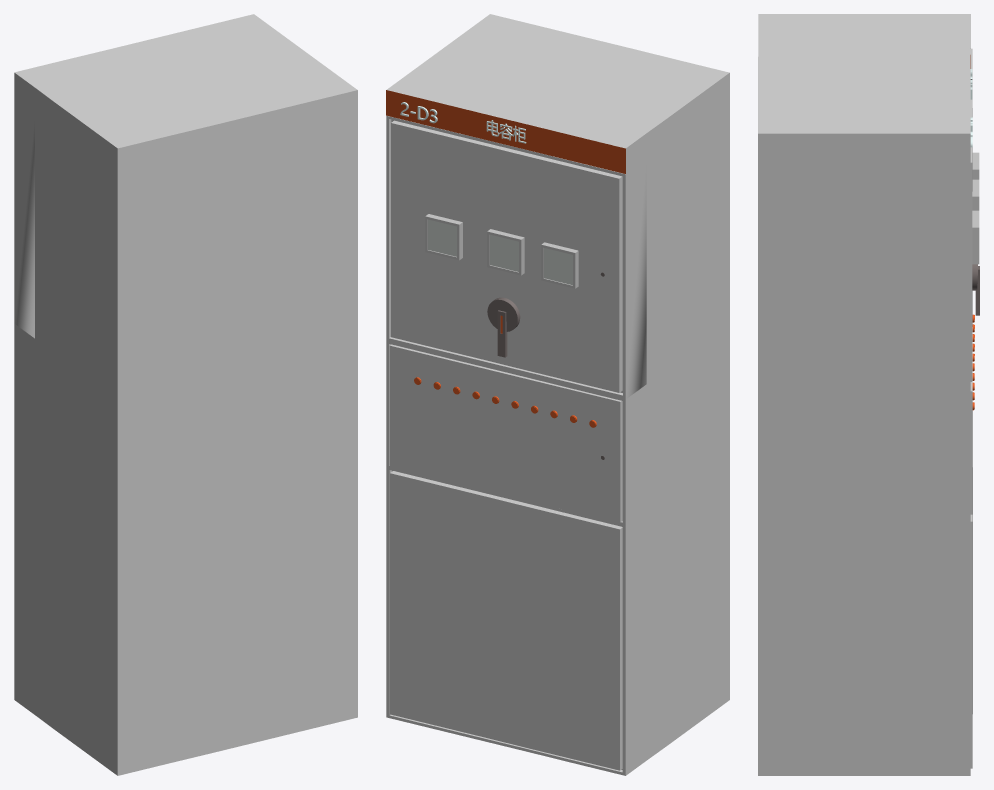
File: capBox_mini.gltf
The picture shows the model from 3 angles, left to right: view 1: azimuth 30°, elevation 25°; view 2: azimuth 150°, elevation 25°; view 3: azimuth 270°, elevation 25°; orthographic projection. The views are drawn at different scales.
Parts seen in each view (by area): view 1: 电容柜; view 2: 电容柜; view 3: 电容柜.
Boxes of the visible parts, left/top/right/bottom form: 电容柜: left=14, top=14, right=357, bottom=775; 电容柜: left=386, top=14, right=729, bottom=775; 电容柜: left=758, top=14, right=979, bottom=775.
Bounding box in the file's own units: 80.07 × 200 × 62.61.
